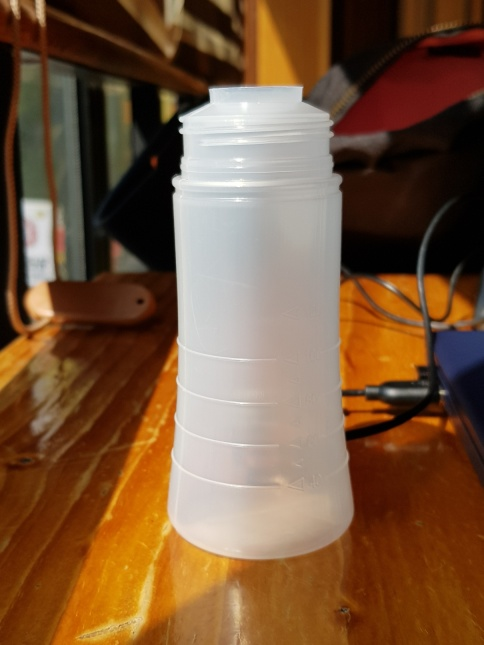Plastic: (158, 78, 358, 565)
